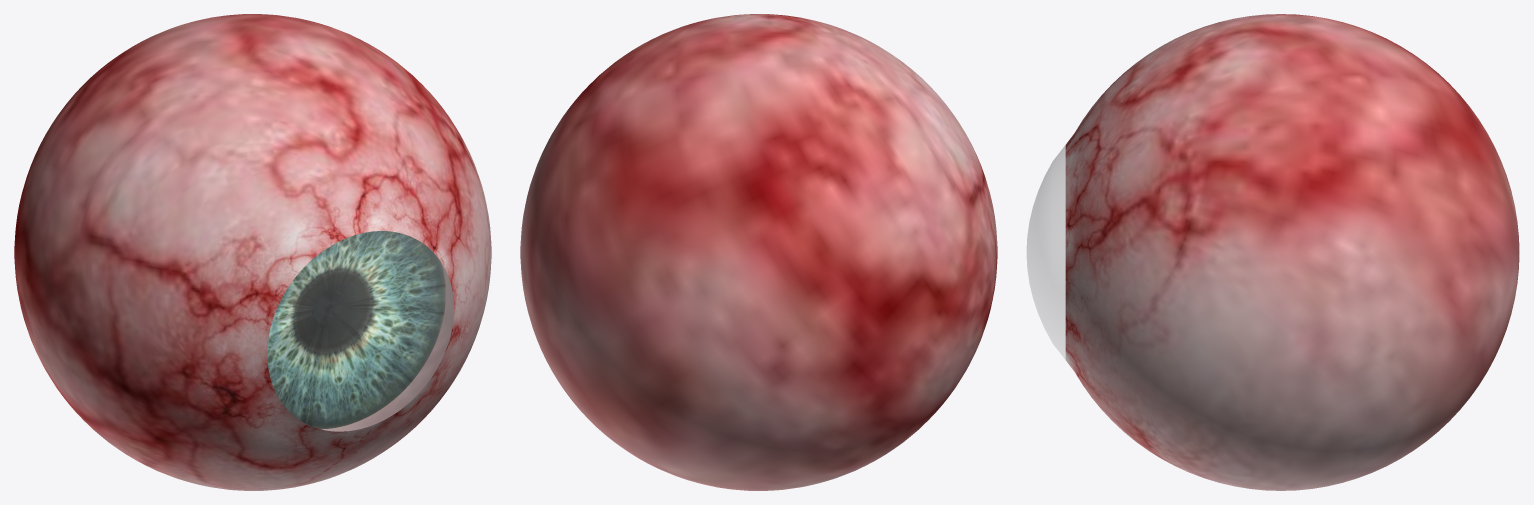
Rendered from eyes.glb.
3 renders of one model, left to right at view 1: azimuth 30°, elevation 25°; view 2: azimuth 150°, elevation 25°; view 3: azimuth 270°, elevation 25°, orthographic.
Parts seen in each view (by area): view 1: udambu; view 2: udambu; view 3: udambu.
Boxes of the visible parts, left/top/right/bottom form: udambu: left=14, top=14, right=491, bottom=490; udambu: left=520, top=14, right=997, bottom=490; udambu: left=1026, top=14, right=1519, bottom=490.
Bounding box in the file's own units: 0.5803 × 0.5806 × 0.6.
3 materials, 2 textured.
